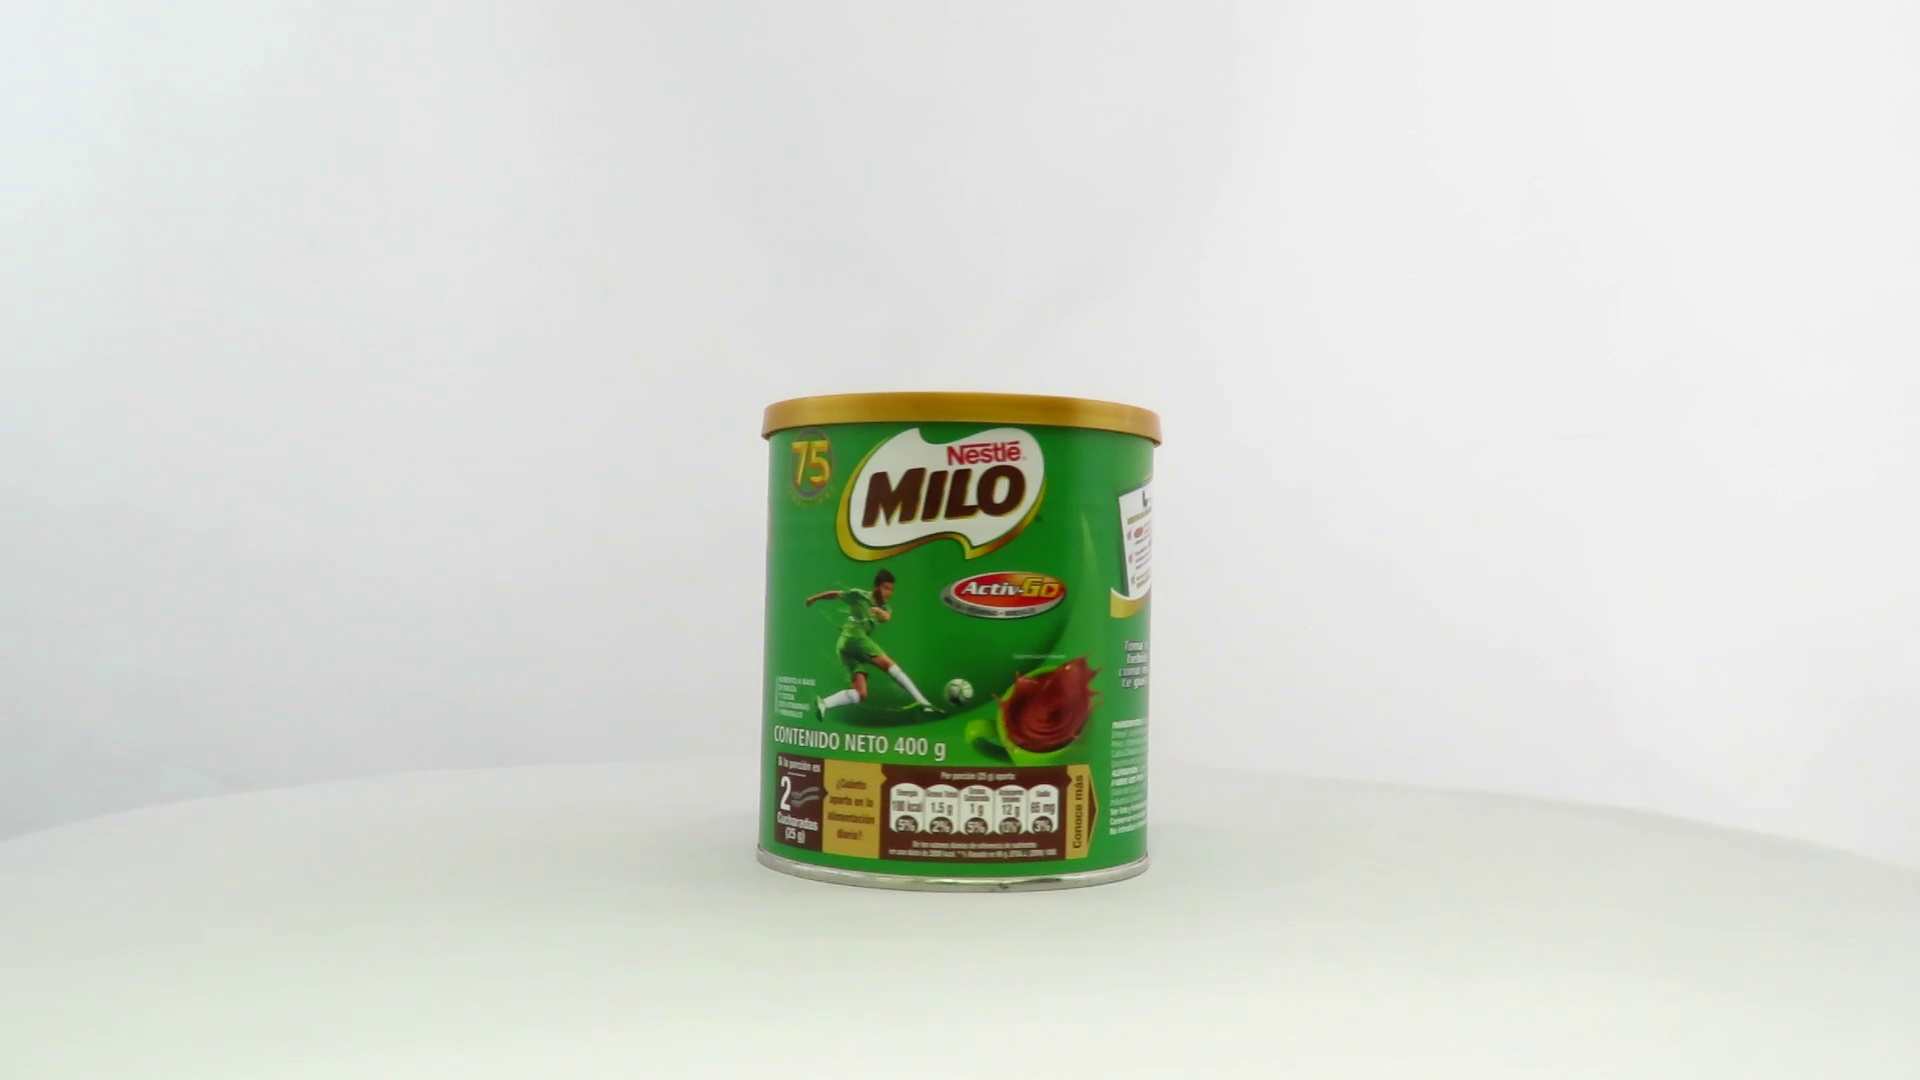COL0170203LAT40000: (749, 386, 1168, 899)
